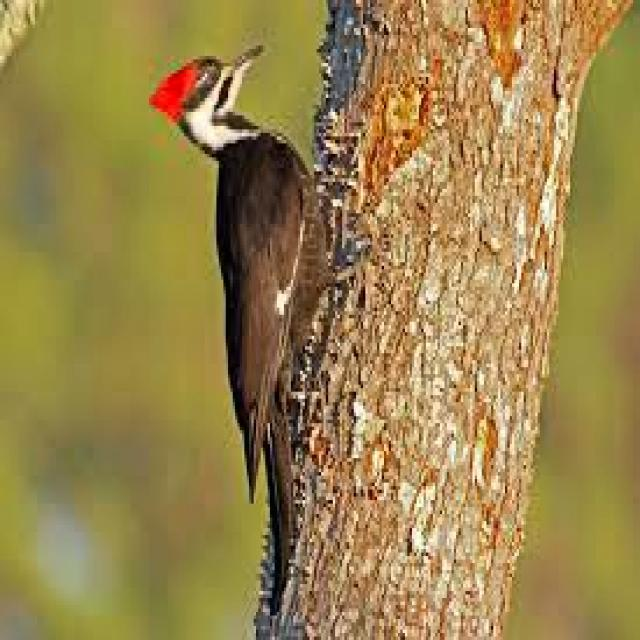woodpecker: (149, 45, 335, 605)
